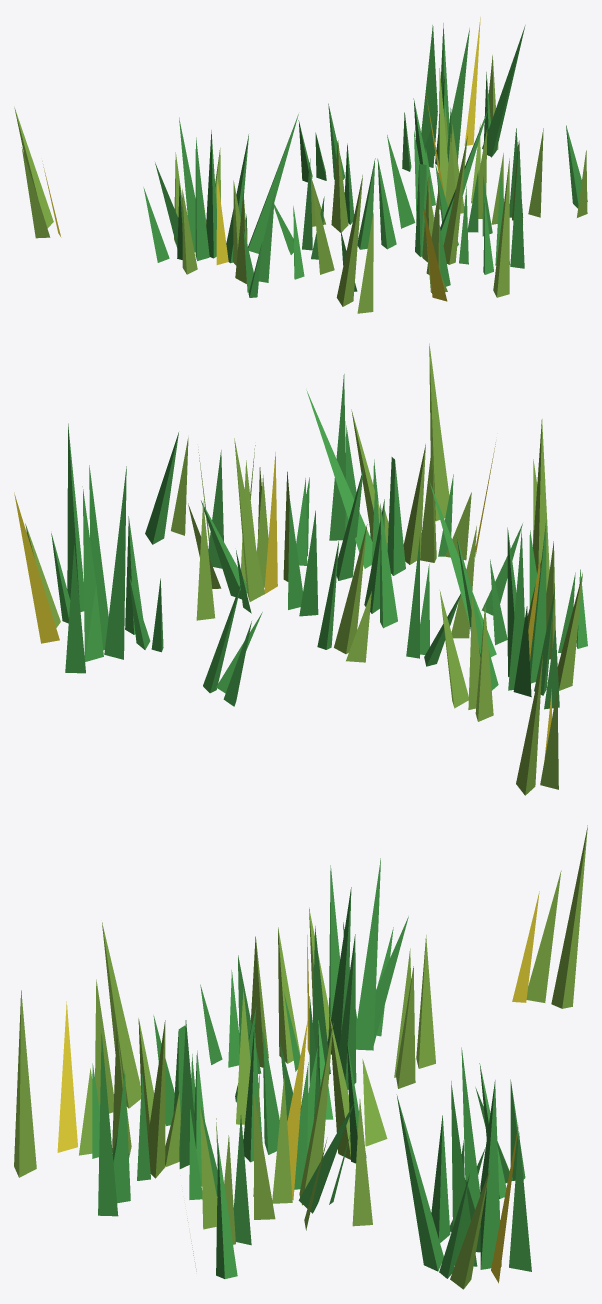
File: grass-yellow.glb
3 views of the same model, one above another, from view 1: azimuth 30°, elevation 25°; view 2: azimuth 150°, elevation 25°; view 3: azimuth 270°, elevation 25° (orthographic). The views are drawn at different scales.
Visible parts, largest first — view 1: group1325005311, group1794255474, group177561954; view 2: group1325005311, group1794255474, group177561954; view 3: group1325005311, group1794255474, group177561954.
Part boxes in pixels (box(x1,y1,x2,y2)): group1325005311: box(143, 23, 587, 297); group1794255474: box(14, 55, 587, 313); group177561954: box(42, 17, 480, 301); group1325005311: box(51, 374, 587, 709); group1794255474: box(25, 343, 582, 795); group177561954: box(14, 442, 551, 760); group1325005311: box(92, 858, 531, 1278); group1794255474: box(14, 825, 587, 1289); group177561954: box(57, 891, 539, 1283).
Bounding box in the file's own units: 0.8592 × 0.2806 × 0.686.
